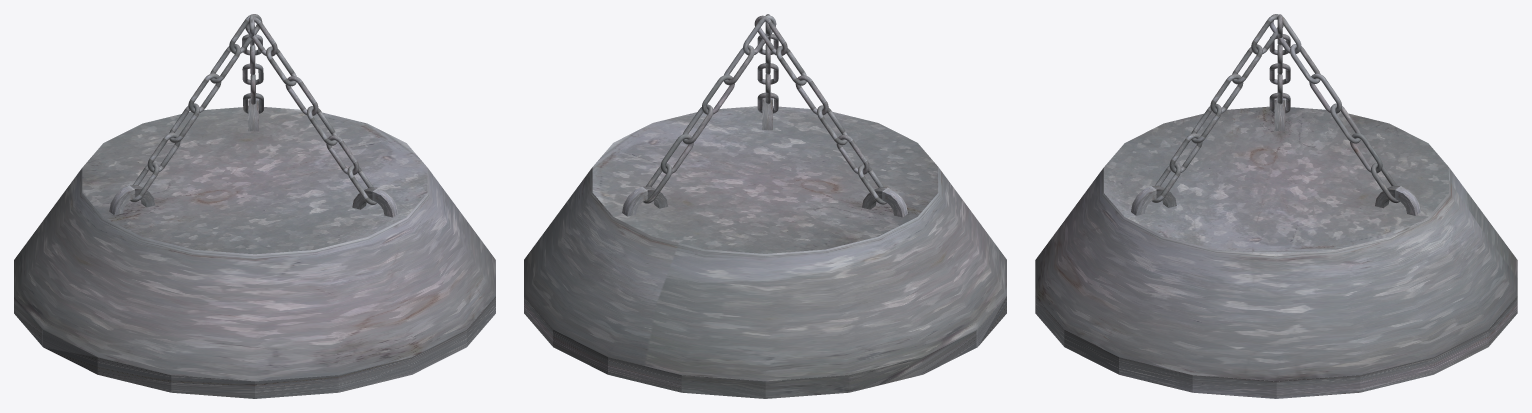
The model's file is Hook.FBX.
3 views of the same model, side by side, from view 1: azimuth 30°, elevation 25°; view 2: azimuth 150°, elevation 25°; view 3: azimuth 270°, elevation 25° (orthographic).
Visible parts, largest first — view 1: Cylinder001, Cylinder004, Cylinder003, Cylinder005, Tube001, Tube002; view 2: Cylinder001, Cylinder003, Cylinder005, Cylinder004, Tube003, Tube001; view 3: Cylinder001, Cylinder004, Cylinder005, Cylinder003, Tube002, Tube003.
Part boxes in pixels (bbox=[...]): Cylinder001: bbox=[14, 107, 495, 398]; Cylinder004: bbox=[245, 16, 376, 204]; Cylinder003: bbox=[130, 14, 262, 202]; Cylinder005: bbox=[242, 15, 263, 113]; Tube001: bbox=[109, 185, 155, 215]; Tube002: bbox=[352, 187, 398, 217]; Cylinder001: bbox=[524, 106, 1006, 398]; Cylinder003: bbox=[754, 15, 886, 204]; Cylinder005: bbox=[643, 15, 776, 203]; Cylinder004: bbox=[757, 14, 778, 113]; Tube003: bbox=[622, 186, 667, 216]; Tube001: bbox=[862, 187, 907, 217]; Cylinder001: bbox=[1035, 106, 1517, 398]; Cylinder004: bbox=[1152, 14, 1283, 202]; Cylinder005: bbox=[1269, 14, 1399, 203]; Cylinder003: bbox=[1269, 14, 1290, 113]; Tube002: bbox=[1131, 185, 1176, 215]; Tube003: bbox=[1375, 186, 1420, 215].
Size of the model in its own units: 49.61 by 31.32 by 48.86.
1 material, 1 textured.
